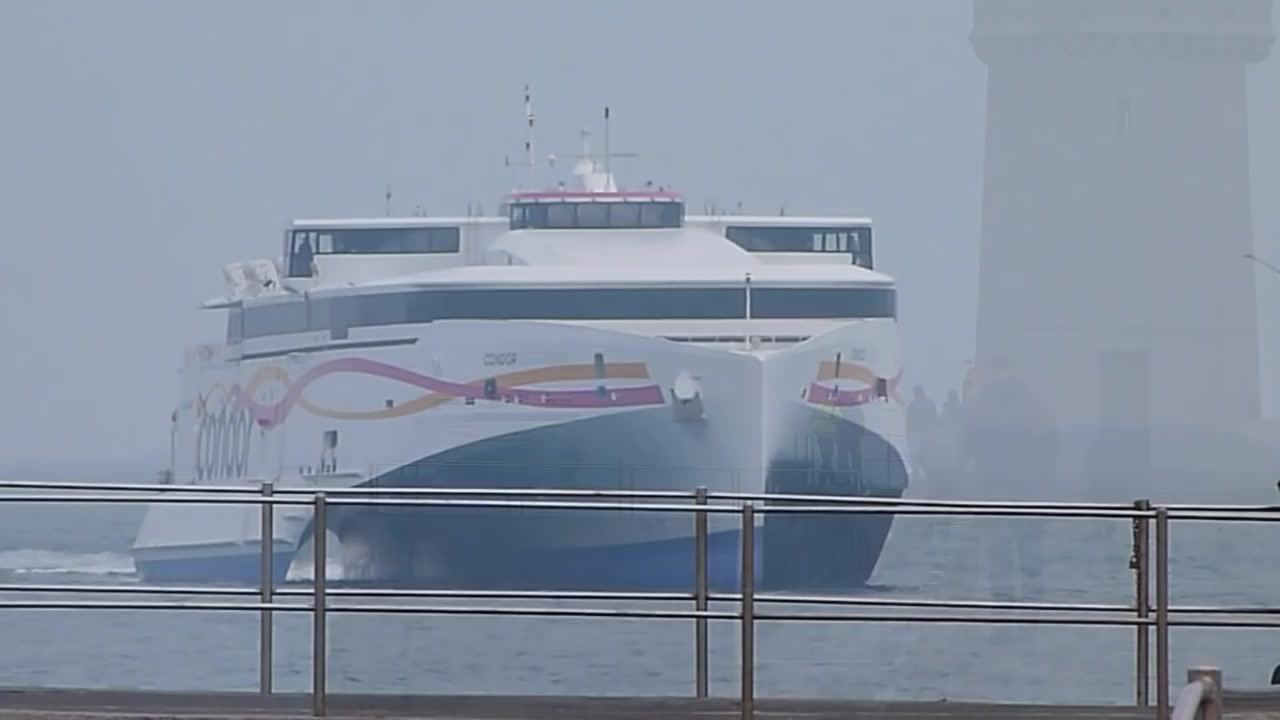CommonShip: (111, 177, 928, 591)
